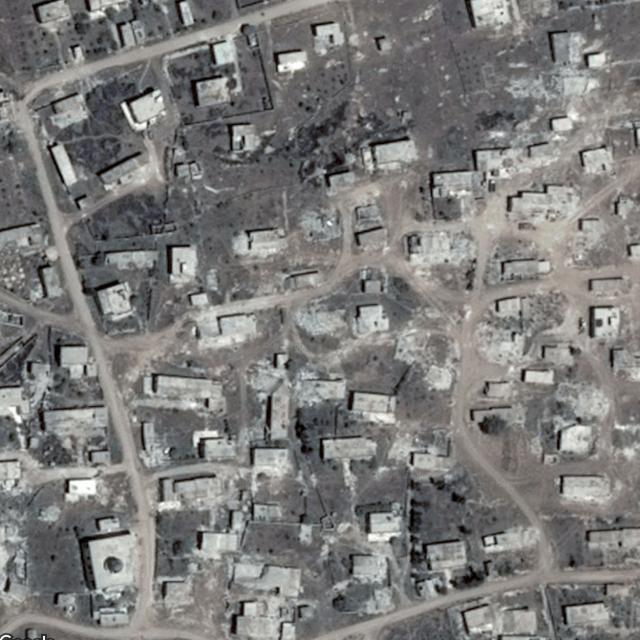damaged_building: (475, 294, 576, 366), (237, 364, 348, 403), (390, 326, 454, 388), (550, 381, 614, 428), (0, 507, 29, 601), (400, 232, 478, 264), (291, 303, 351, 336), (292, 205, 340, 242), (249, 444, 291, 484), (379, 429, 413, 470), (474, 527, 542, 547), (558, 69, 602, 95), (554, 30, 587, 64), (362, 586, 397, 615), (37, 506, 60, 522)
